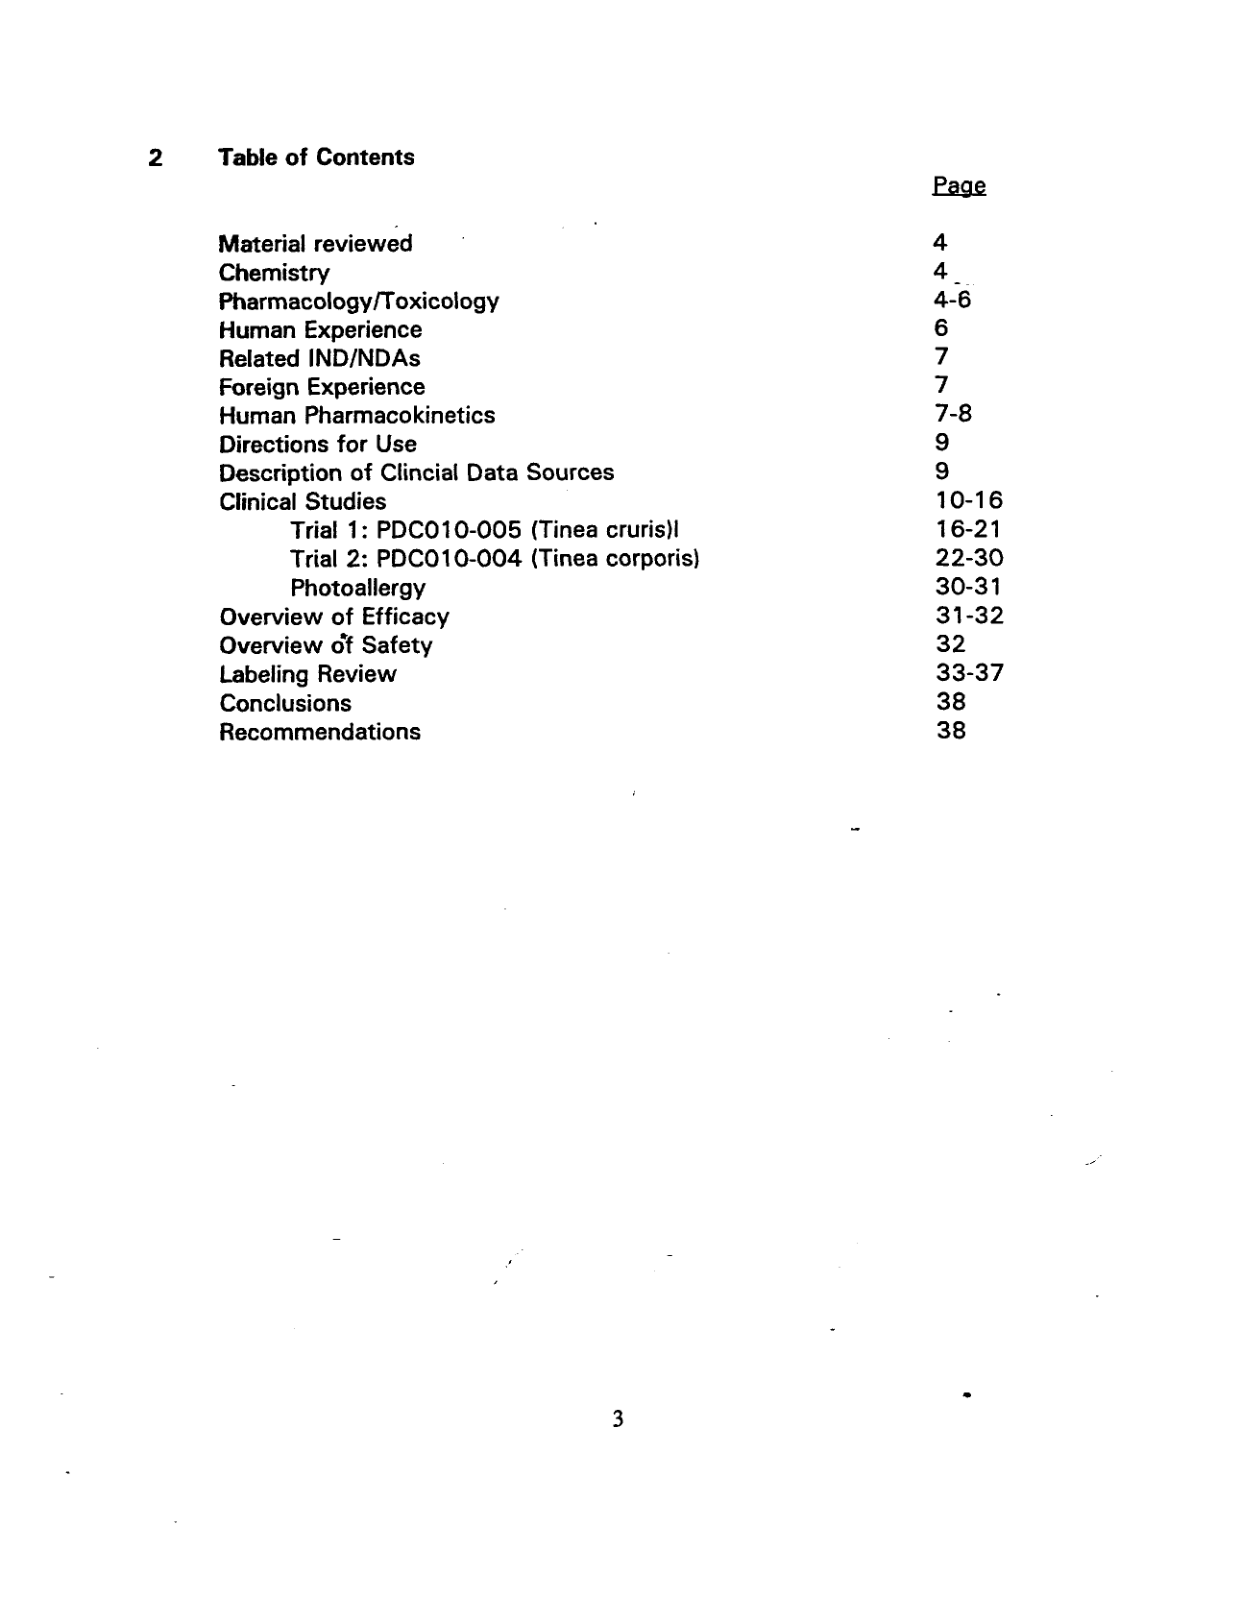nolines: (216, 177, 1002, 740)
